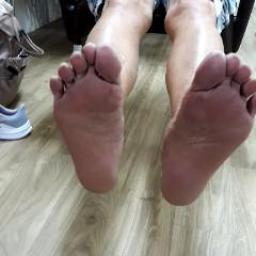Plantar View -Both Feet-: (28, 34, 255, 221)
